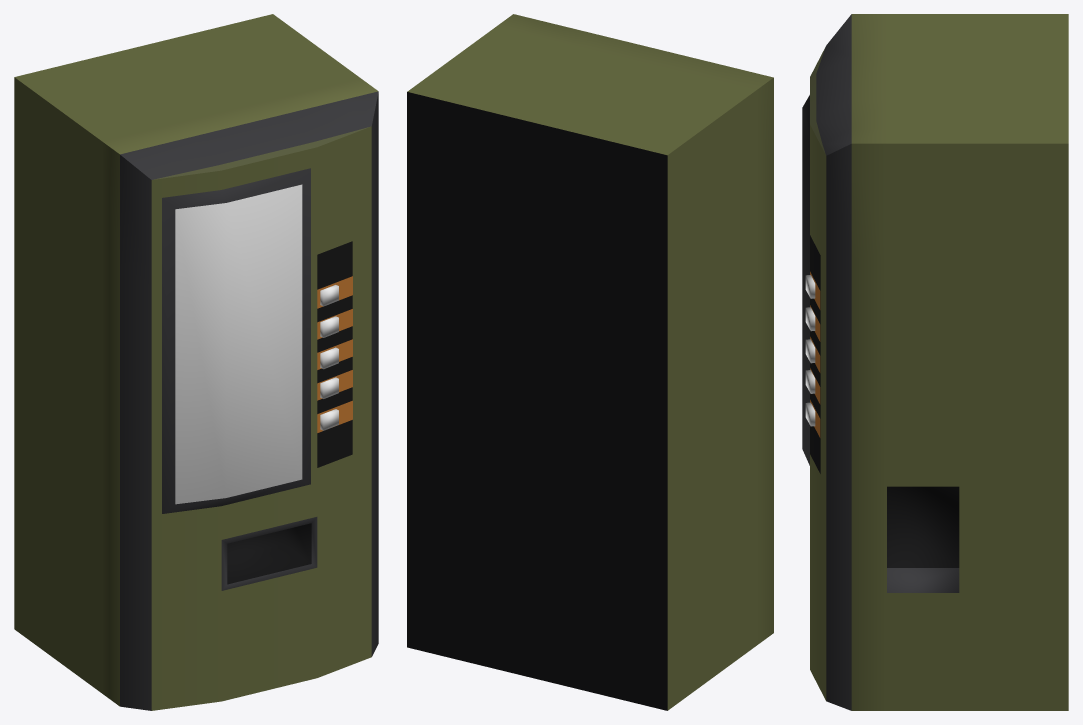
Rendered from HotDrinks.glb.
3 views of the same model, side by side, from view 1: azimuth 30°, elevation 25°; view 2: azimuth 150°, elevation 25°; view 3: azimuth 270°, elevation 25° (orthographic). The views are drawn at different scales.
Visible parts, largest first — view 1: HotDrinks; view 2: HotDrinks; view 3: HotDrinks.
Boxes of the visible parts, x1=… form: HotDrinks: x1=14, y1=14, x2=378, y2=710; HotDrinks: x1=407, y1=14, x2=773, y2=710; HotDrinks: x1=802, y1=14, x2=1068, y2=710.
Bounding box in the file's own units: 0.8971 × 1.83 × 0.7786.
3 materials, 1 textured.
